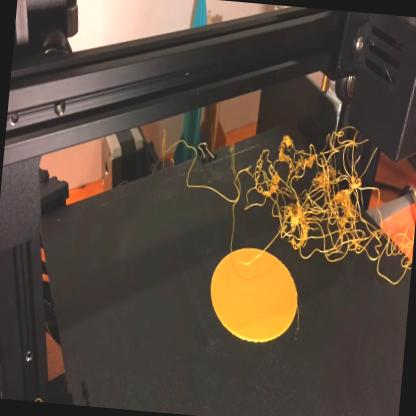fail: (241, 121, 416, 265)
